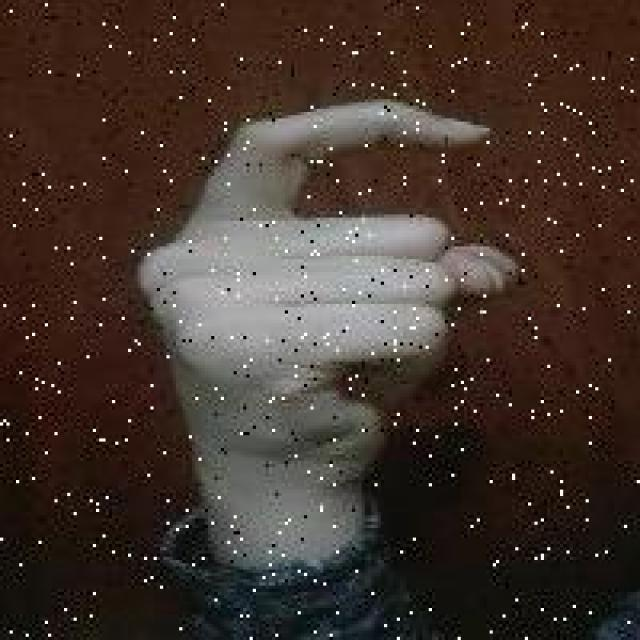X: (110, 101, 526, 510)
